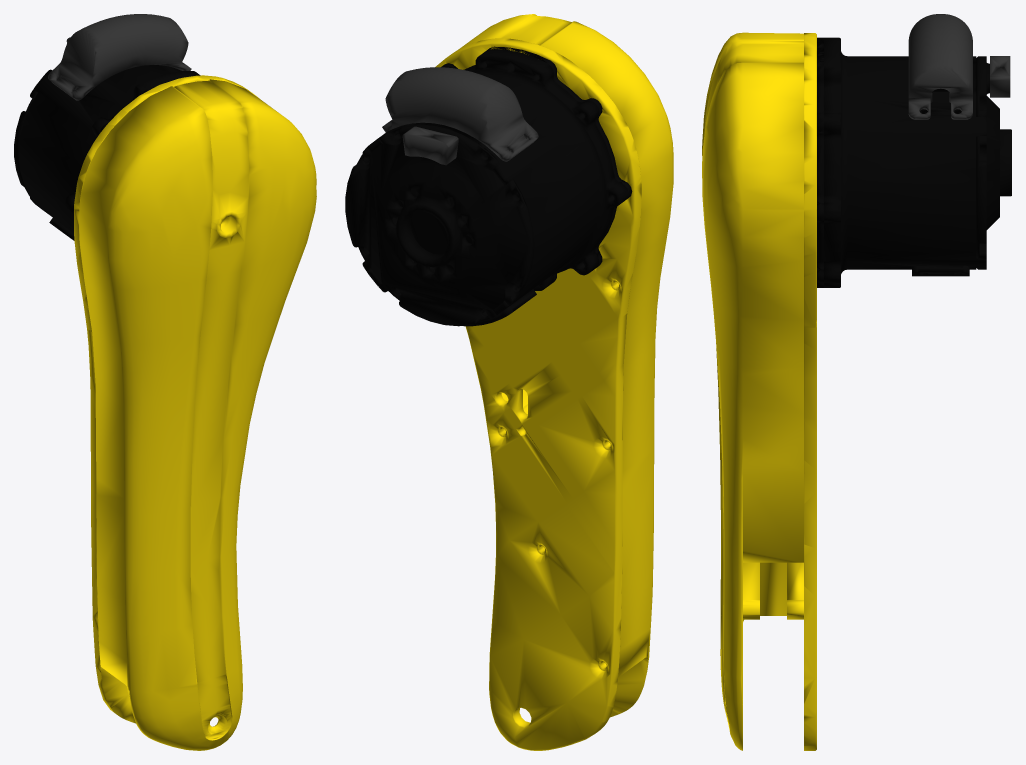
The model's file is R_THIGH.dae.
3 views of the same model, side by side, from view 1: azimuth 30°, elevation 25°; view 2: azimuth 150°, elevation 25°; view 3: azimuth 270°, elevation 25° (orthographic). The views are drawn at different scales.
Parts seen in each view (by area): view 1: Mesh (×4); view 2: Mesh (×5); view 3: Mesh (×6).
Part boxes in pixels (x1=…): Mesh (×4): x1=14, y1=14, x2=316, y2=750; Mesh (×5): x1=345, y1=14, x2=673, y2=750; Mesh (×6): x1=702, y1=14, x2=1011, y2=750.
Size of the model in its own units: 0.0773 by 0.0915 by 0.235.
